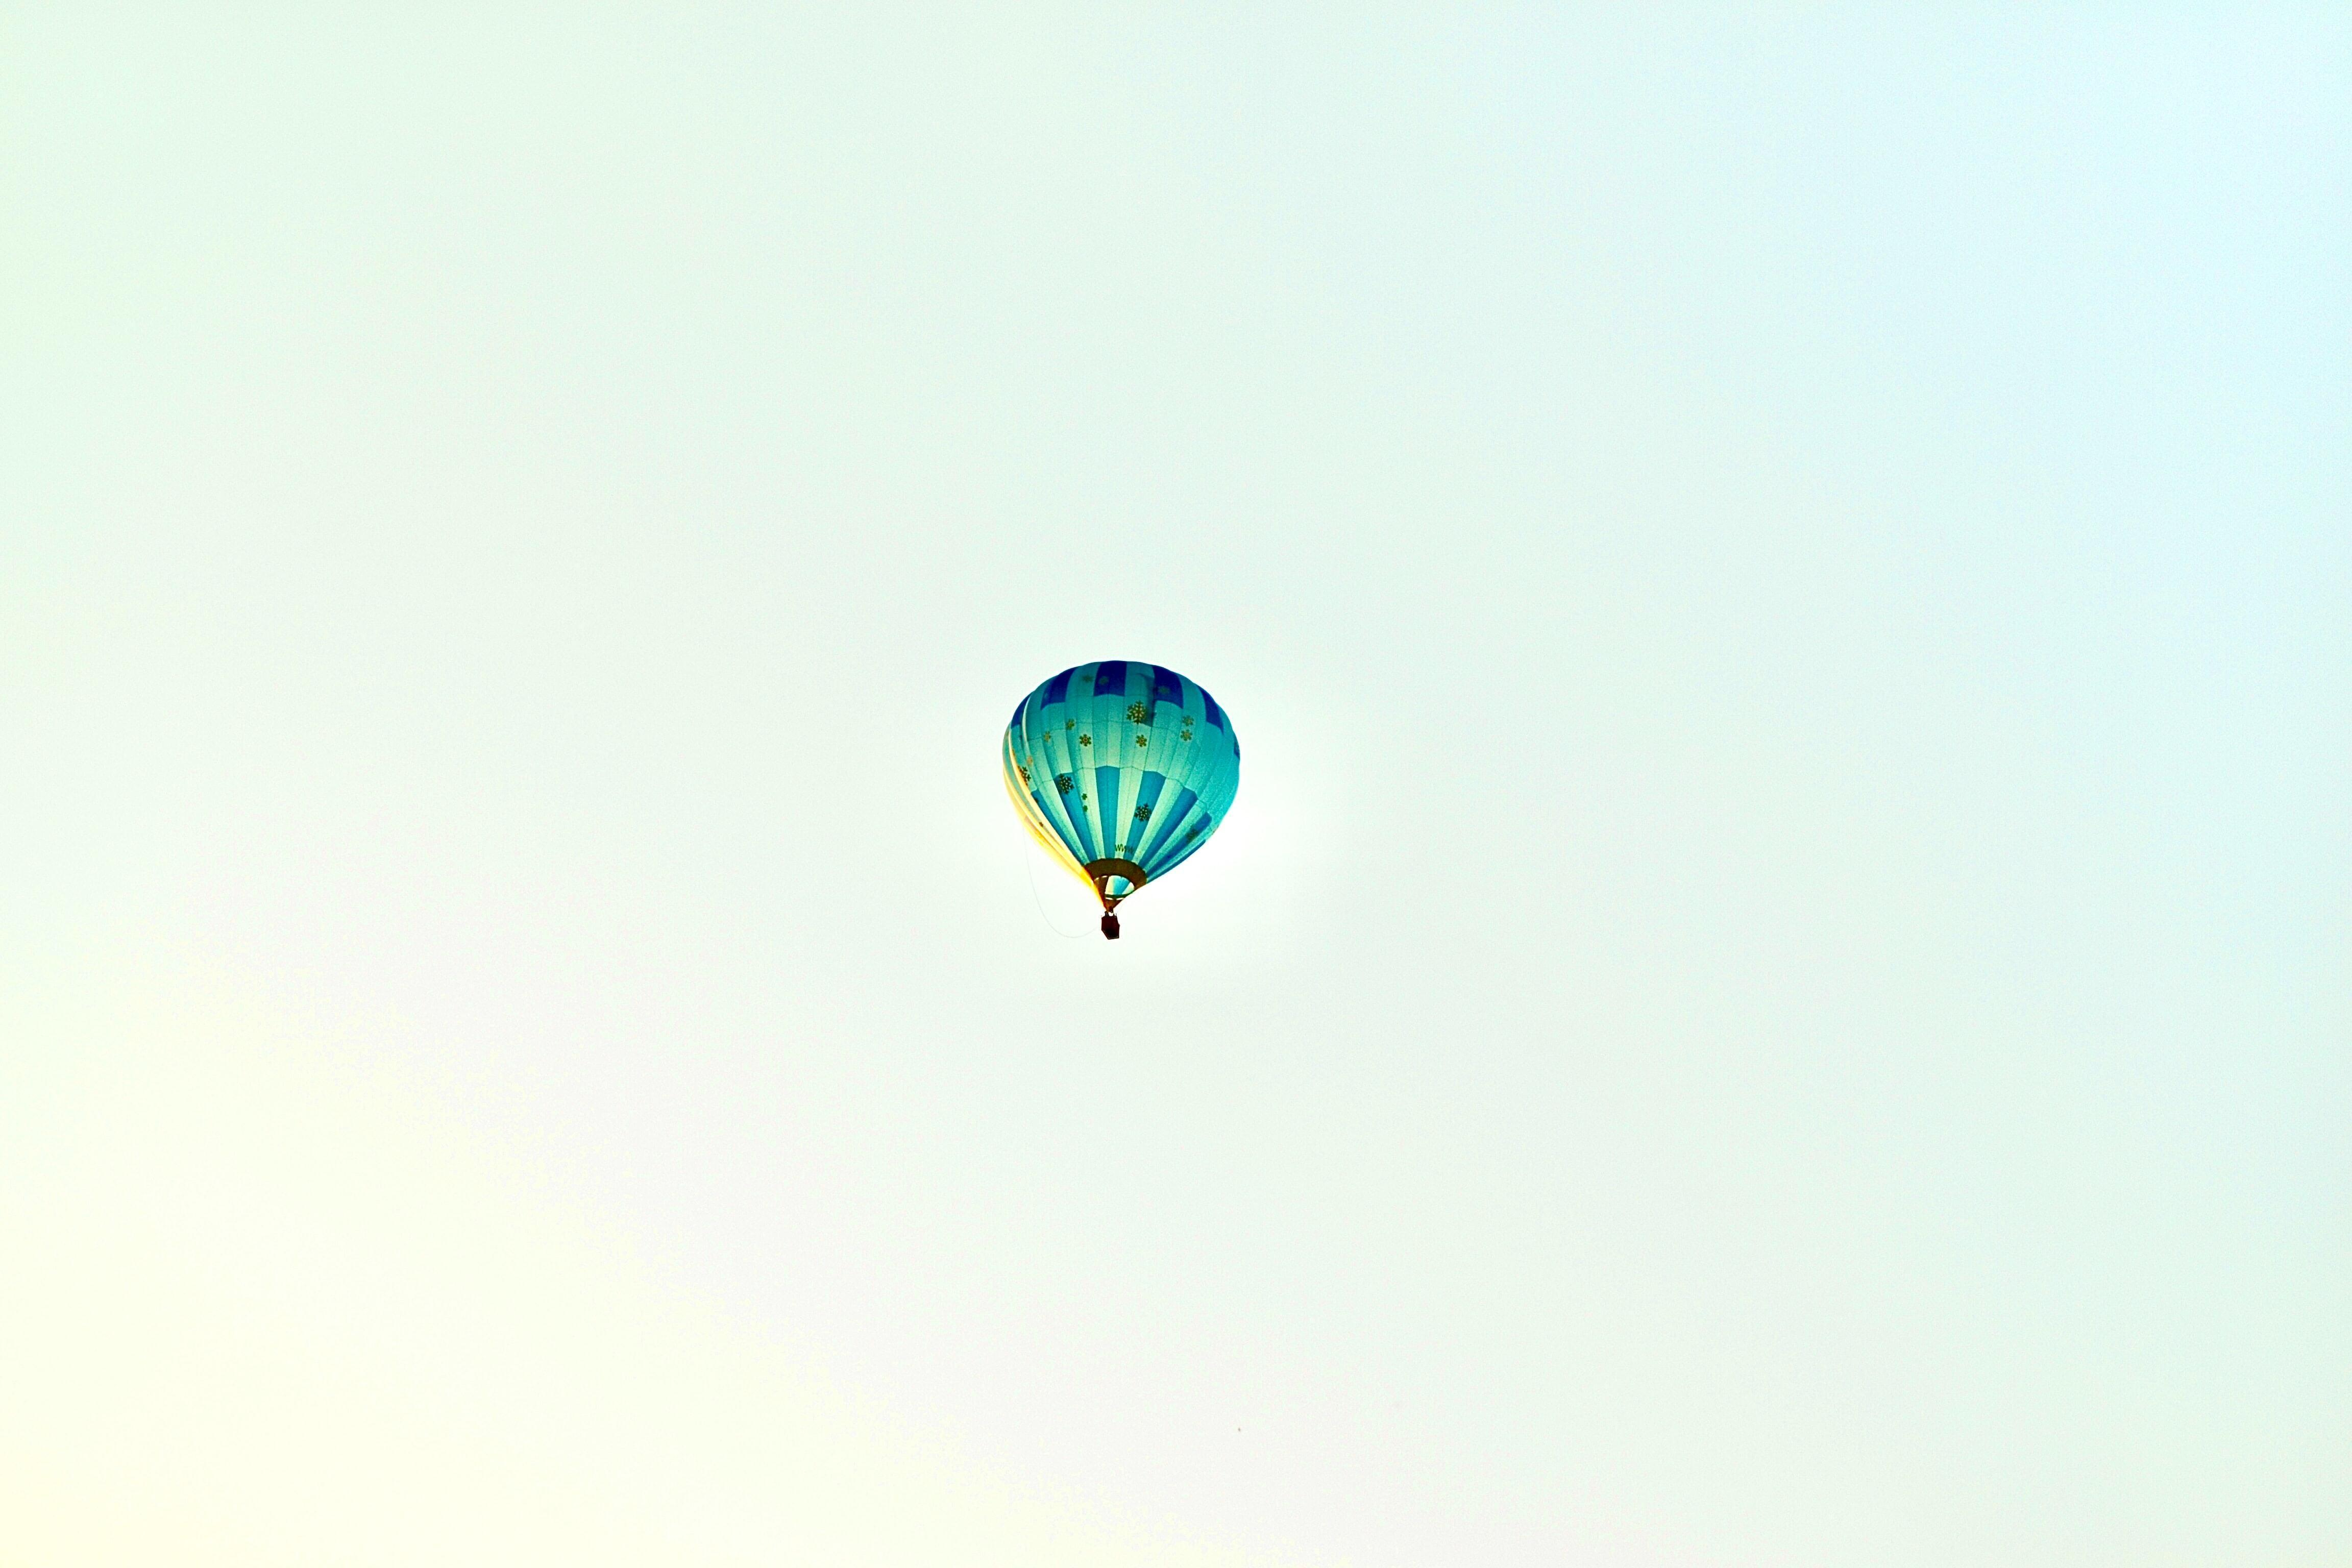hot air ballon: (1001, 661, 1241, 941)
